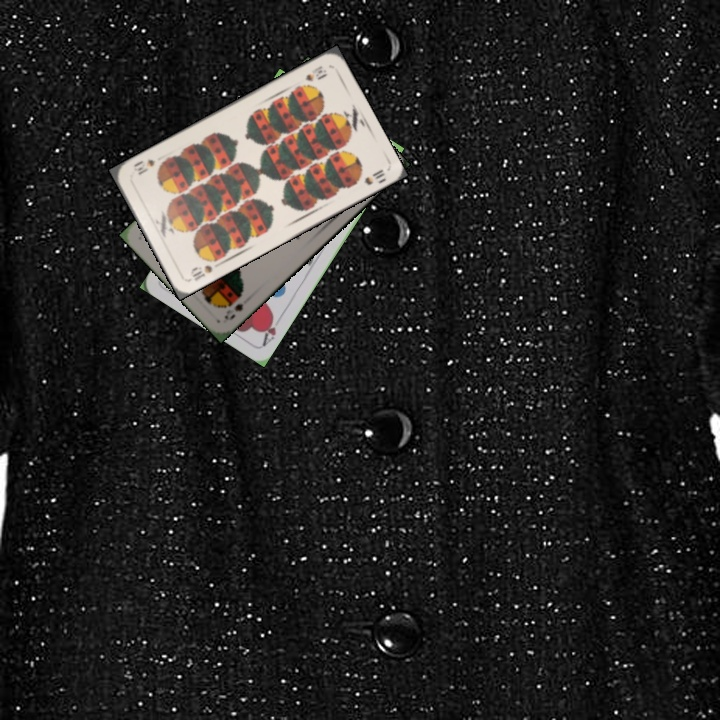HA: (259, 310, 285, 348)
S10: (186, 254, 220, 284), (301, 61, 329, 84)
SO: (220, 299, 246, 323)
